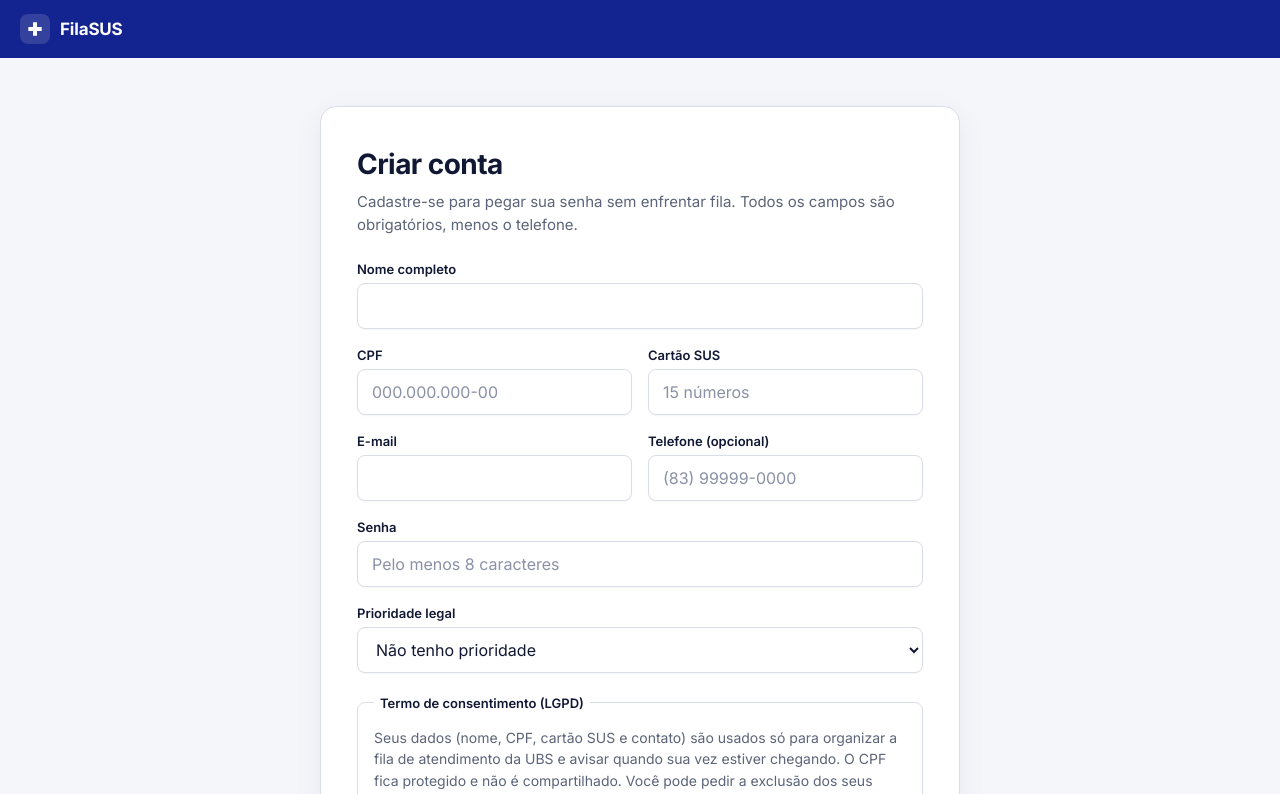
Scenario: US04 - Autocadastro do paciente com consentimento › CPF ou e-mail já cadastrado › mostra a mensagem do servidor
Type "Maria da Silva" into the field labelled "Nome completo". click: coordinates (640, 306)
box: [357,282,923,328]
Type "529.982.247-25" into the field labelled "CPF". click: coordinates (494, 392)
box: [357,368,632,414]
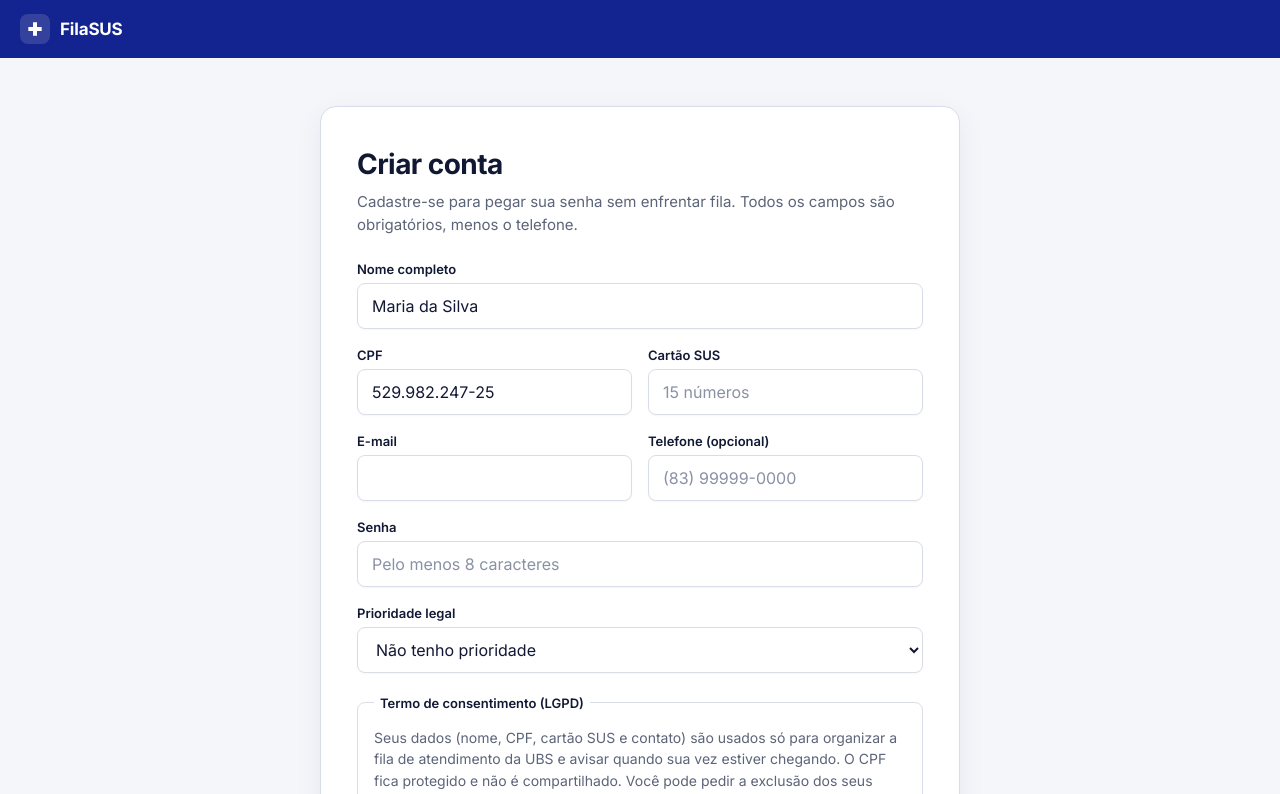
Type "898001234567890" into the field labelled "Cartão SUS". click: coordinates (786, 392)
box: [648,368,923,414]
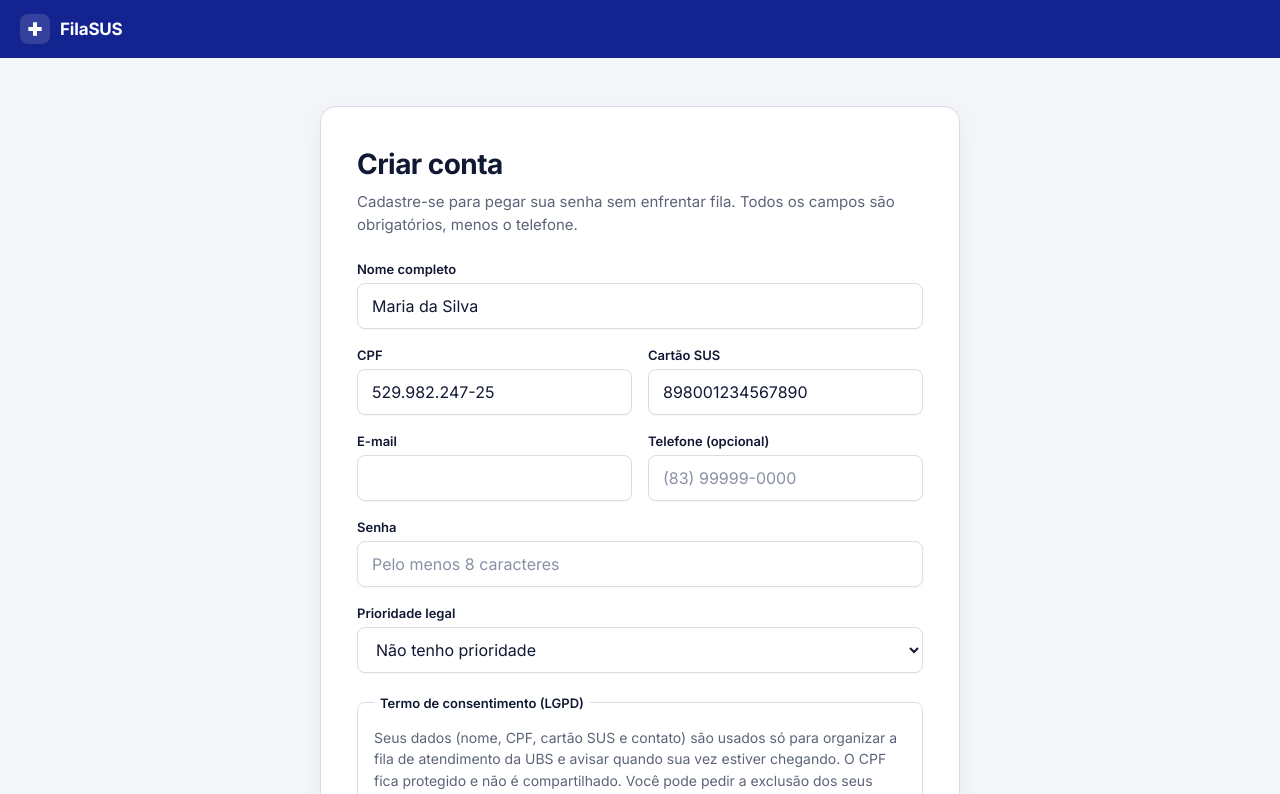
Type "maria@email.com" into the field labelled "E-mail". click: coordinates (494, 478)
box: [357,454,632,500]
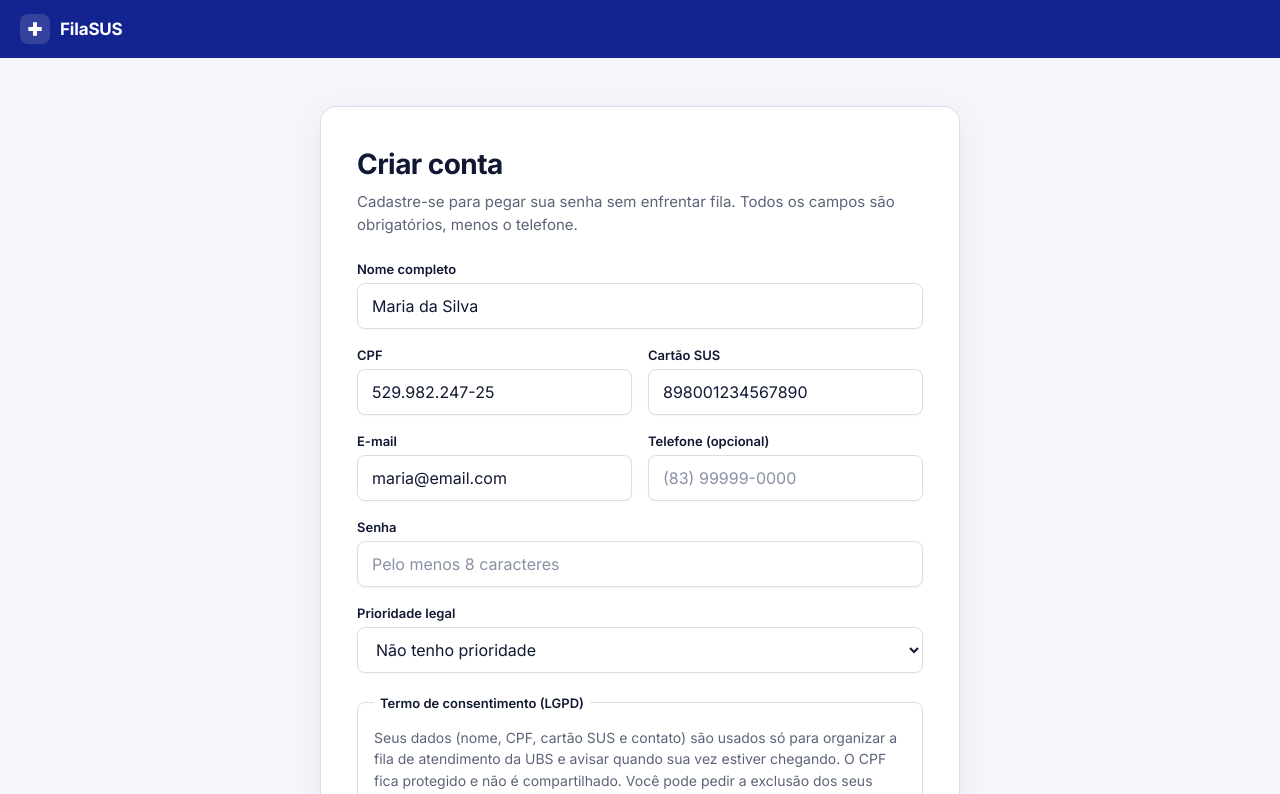
Type "senhaForte123" into the password field labelled "Senha". click: coordinates (640, 564)
box: [357,540,923,586]
(page scrolled)
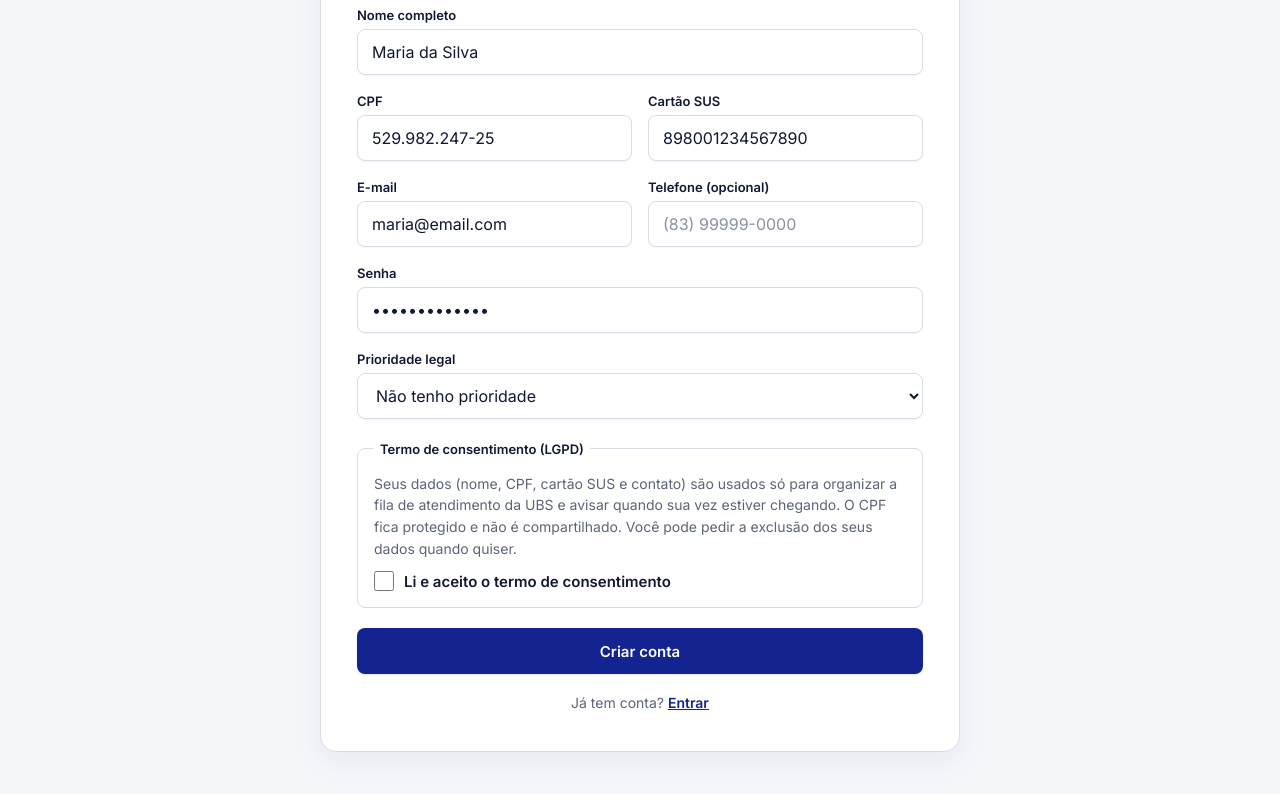
Click the checkbox labelled "Li e aceito o termo de consentimento". click: coordinates (384, 581)
box: [374,571,394,591]
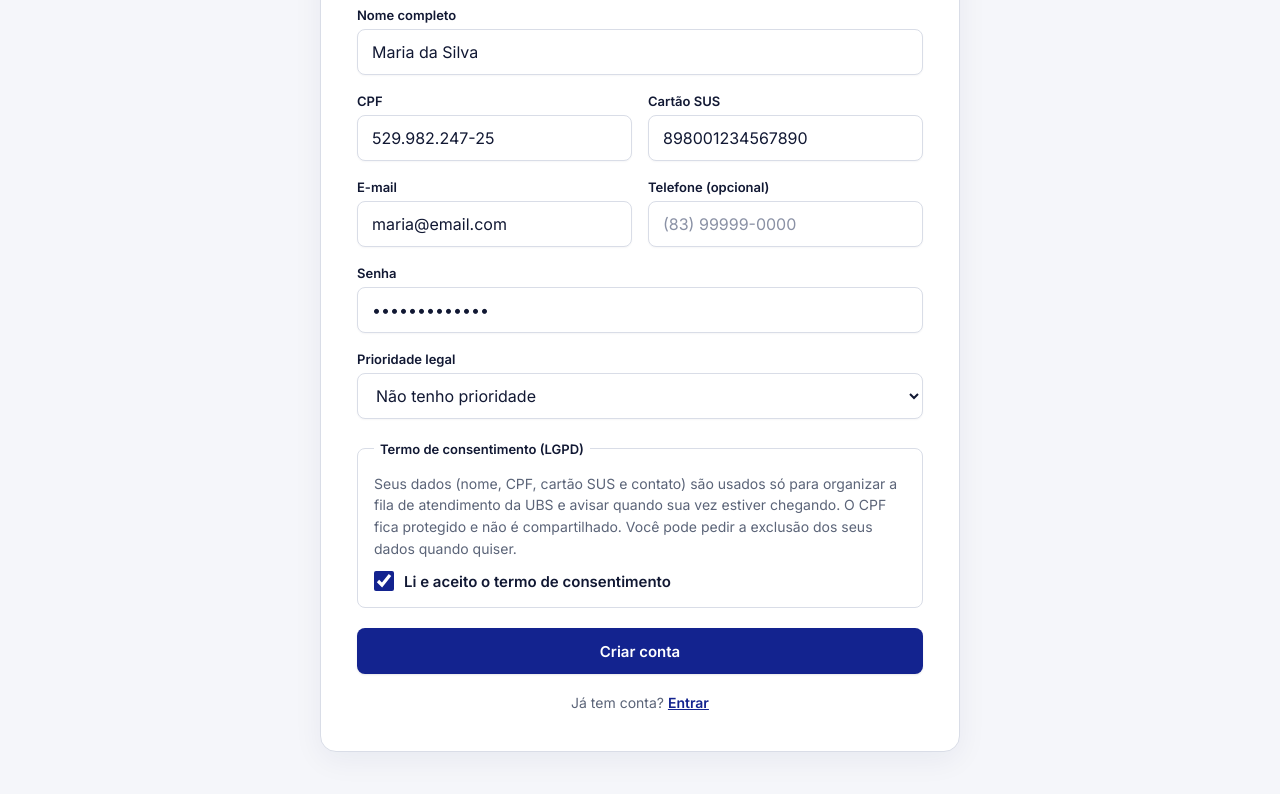
Click the button "Criar conta". click: coordinates (640, 651)
box: [357,628,923,674]
(page scrolled)
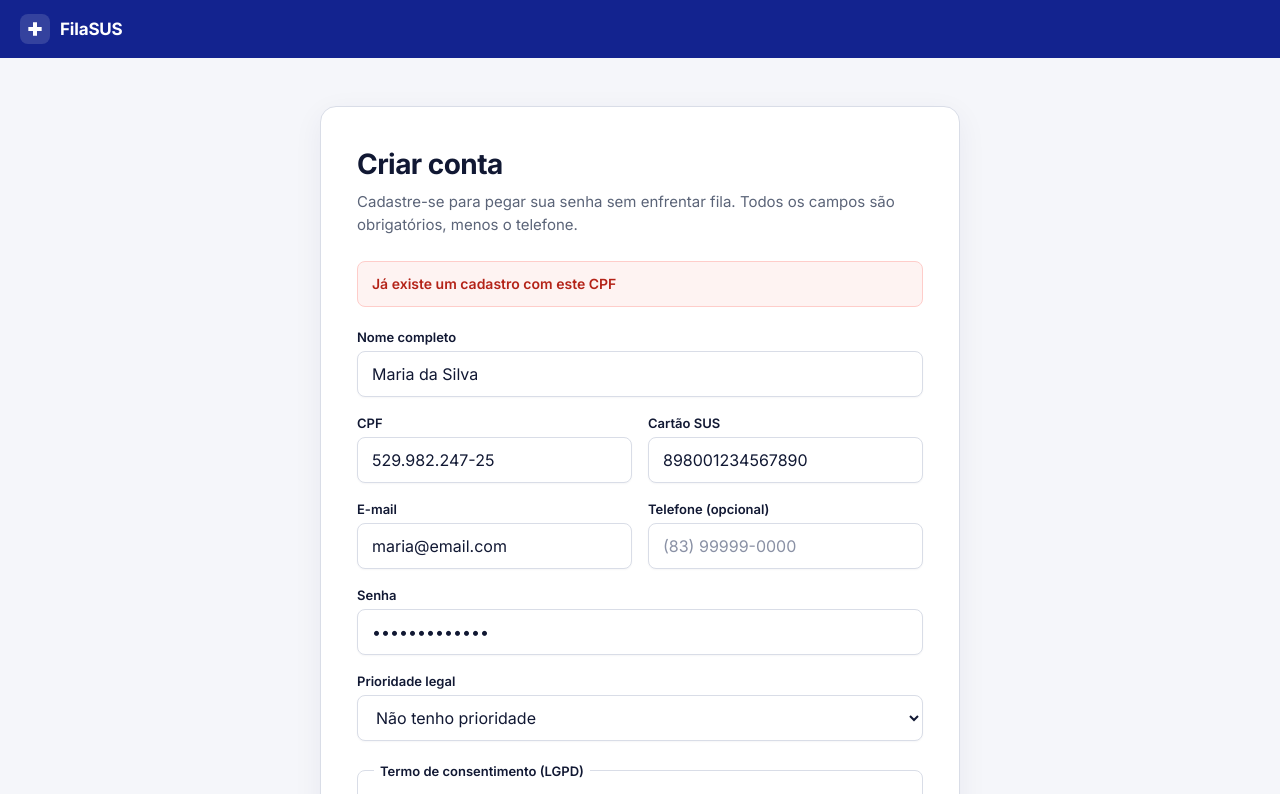
Expected: the message reads "Já existe um cadastro com este CPF", [372,274,616,292]
